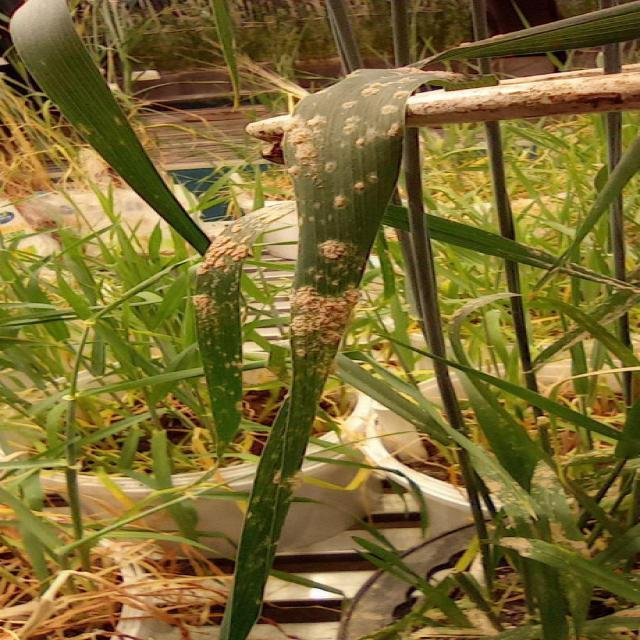Powdery_Mildew: (192, 76, 421, 496)
